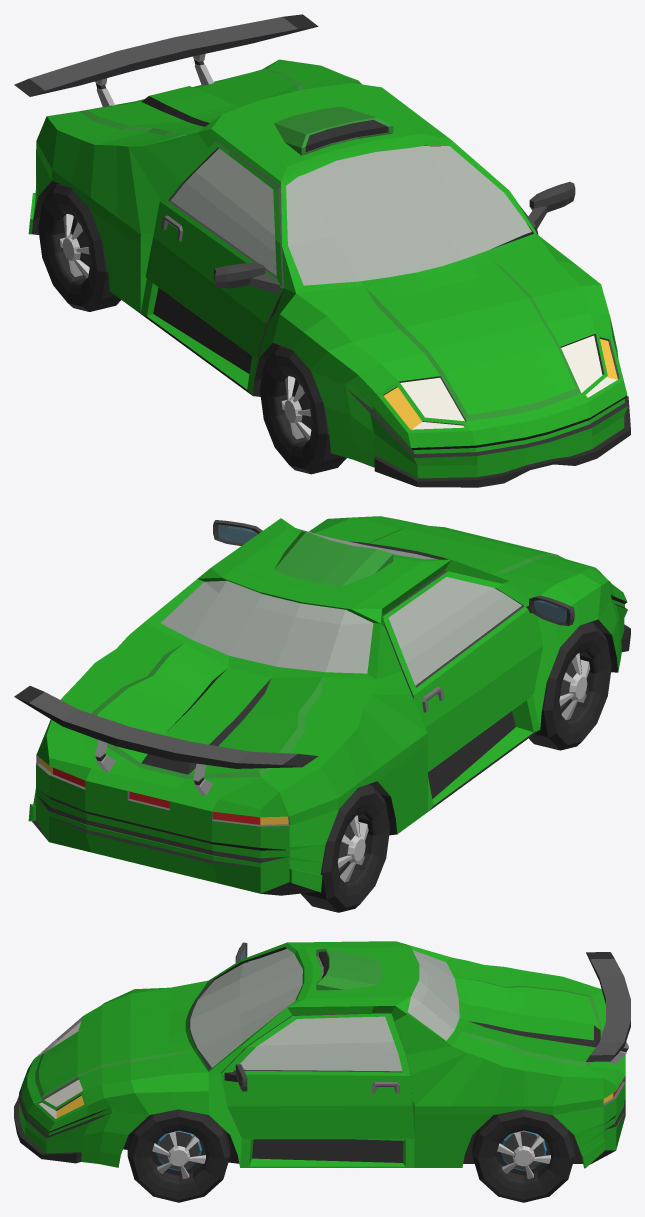
File: Car-Sport_03.fbx
3 views of the same model, one above another, from view 1: azimuth 30°, elevation 25°; view 2: azimuth 150°, elevation 25°; view 3: azimuth 270°, elevation 25° (orthographic). The views are drawn at different scales.
Parts seen in each view (by area): view 1: Car-Sport_03, CAr-Sport_02.002, Wheel_Big_FrontL.013, Wheel_Big_FrontL.011, CAr-Sport_02.001; view 2: Car-Sport_03, CAr-Sport_02.002, Wheel_Big_FrontL.013, Wheel_Big_FrontL.011, CAr-Sport_02.001; view 3: Car-Sport_03, CAr-Sport_02.001, Wheel_Big_FrontL.014, Wheel_Big_FrontL.012.
Boxes of the visible parts, x1,y1,x2,y2 form: Car-Sport_03: (14, 14, 630, 487); CAr-Sport_02.002: (145, 140, 283, 358); Wheel_Big_FrontL.013: (260, 346, 346, 474); Wheel_Big_FrontL.011: (38, 183, 120, 311); CAr-Sport_02.001: (519, 182, 575, 234); Car-Sport_03: (14, 516, 630, 895); CAr-Sport_02.002: (383, 570, 574, 771); Wheel_Big_FrontL.013: (529, 622, 611, 750); Wheel_Big_FrontL.011: (301, 784, 389, 912); CAr-Sport_02.001: (213, 520, 262, 545); Car-Sport_03: (14, 941, 630, 1168); CAr-Sport_02.001: (220, 1012, 414, 1138); Wheel_Big_FrontL.014: (127, 1109, 230, 1202); Wheel_Big_FrontL.012: (472, 1109, 575, 1202).
Bounding box in the file's own units: 301 × 193 × 575.
